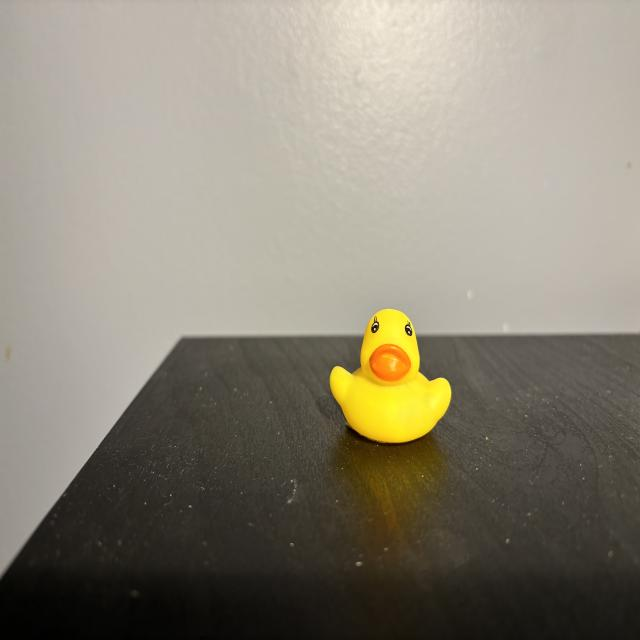duck_regular: (331, 310, 453, 443)
